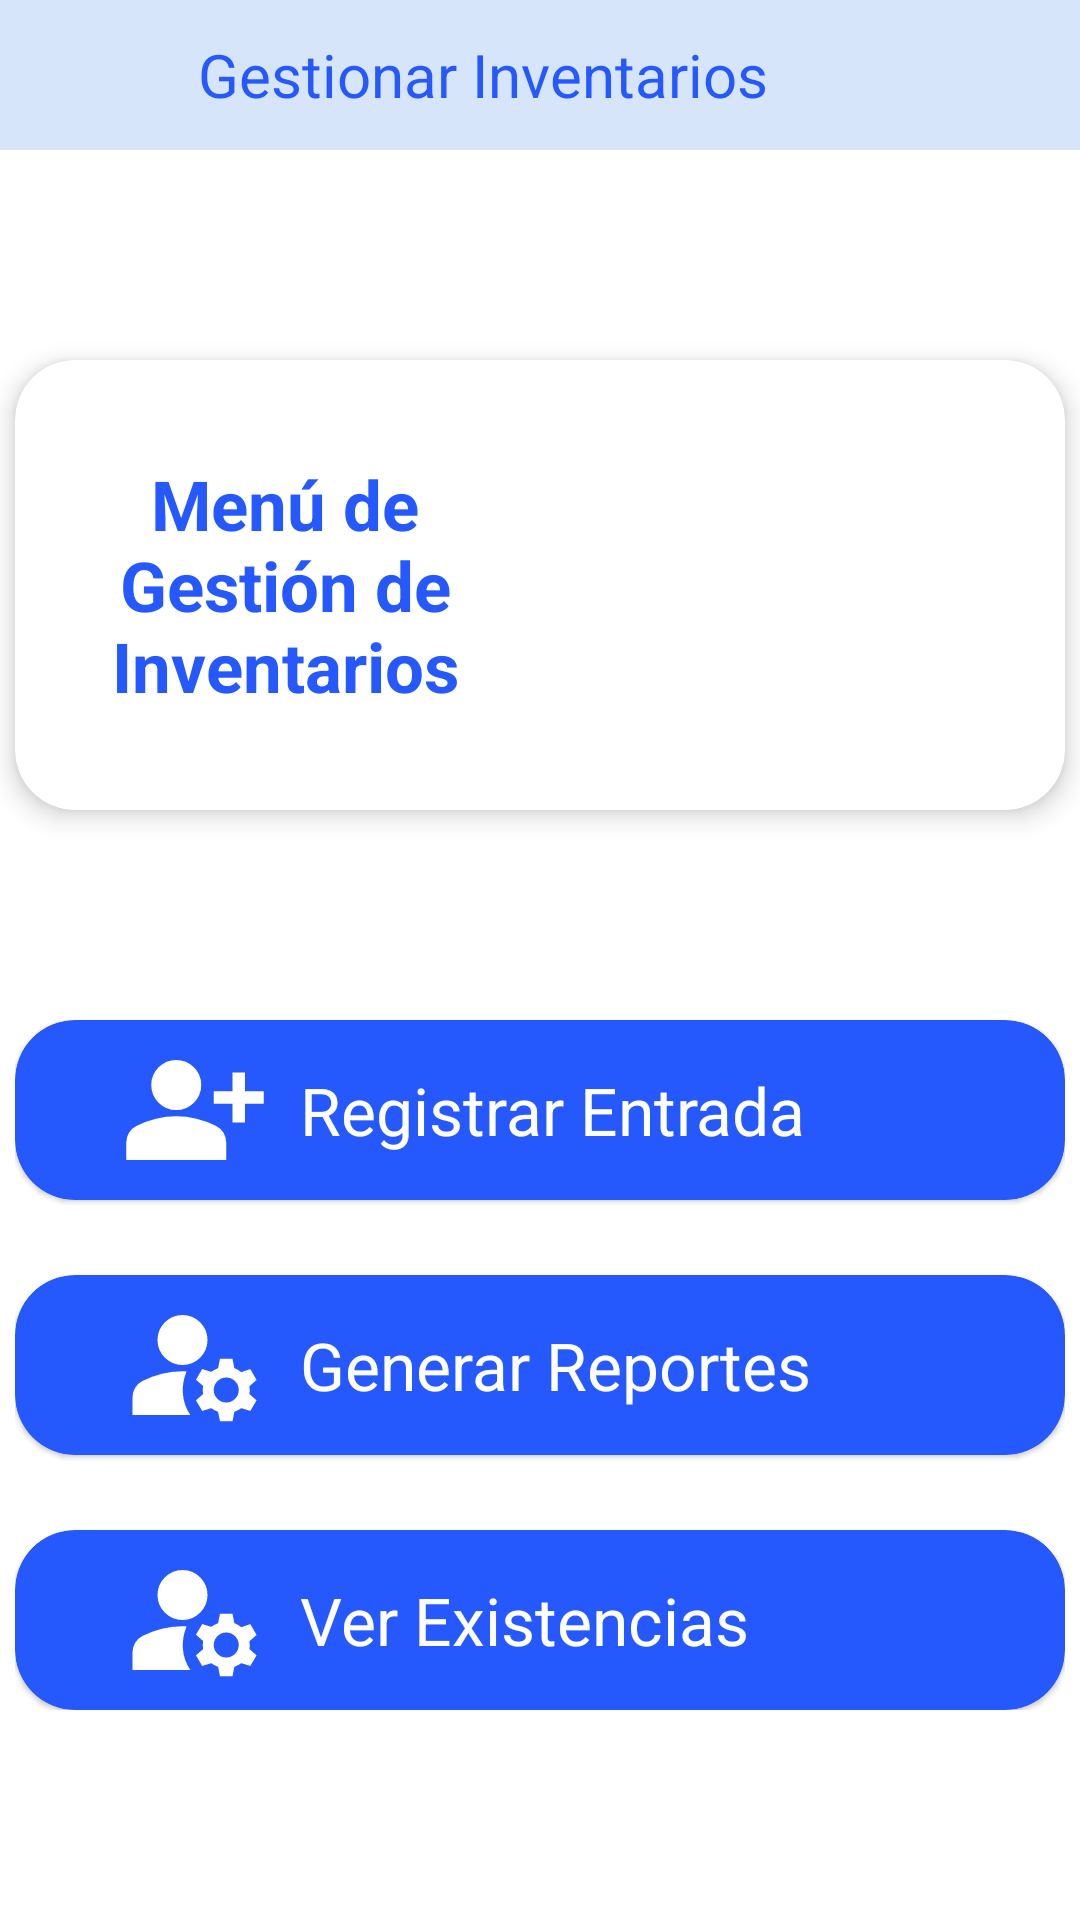

Screen size 1080 × 1920. Icon name, then its center in pixels as [x,y]:
actualizar usuario: [194,1368], [194,1623]
adicionar usuario: [195,1110]
